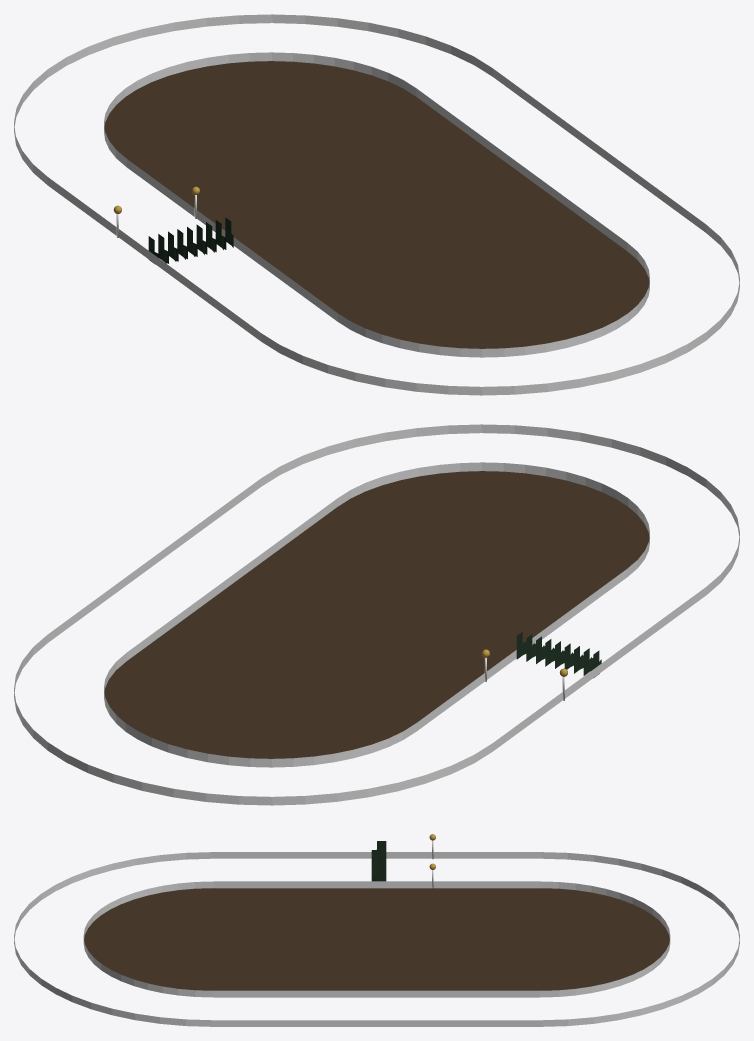
Rendered from Addons.fbx.
3 renders of one model, top to bottom at view 1: azimuth 30°, elevation 25°; view 2: azimuth 150°, elevation 25°; view 3: azimuth 270°, elevation 25°, orthographic. The views are drawn at different scales.
Parts seen in each view (by area): view 1: Cylinder; view 2: Cylinder; view 3: Cylinder.
Boxes of the visible parts, x1=… form: Cylinder: x1=14, y1=14, x2=739, y2=395; Cylinder: x1=14, y1=424, x2=739, y2=805; Cylinder: x1=14, y1=834, x2=739, y2=1026.
Size of the model in its own units: 12232 by 830 by 22119.
